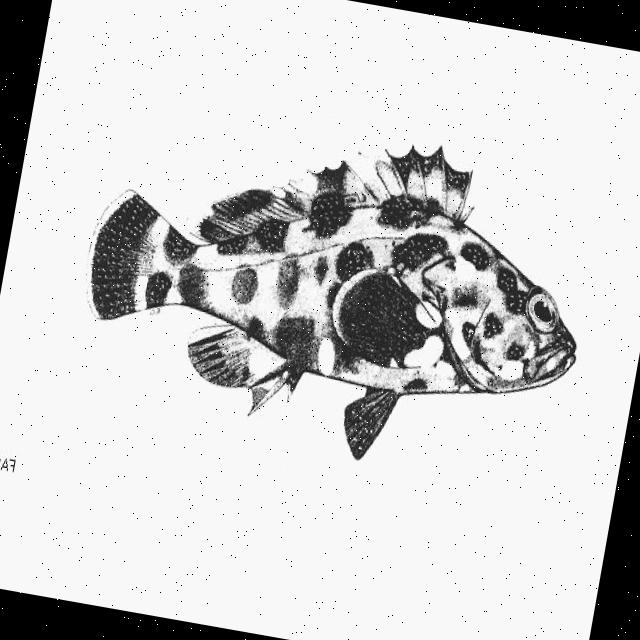ikan: (62, 86, 609, 494)
